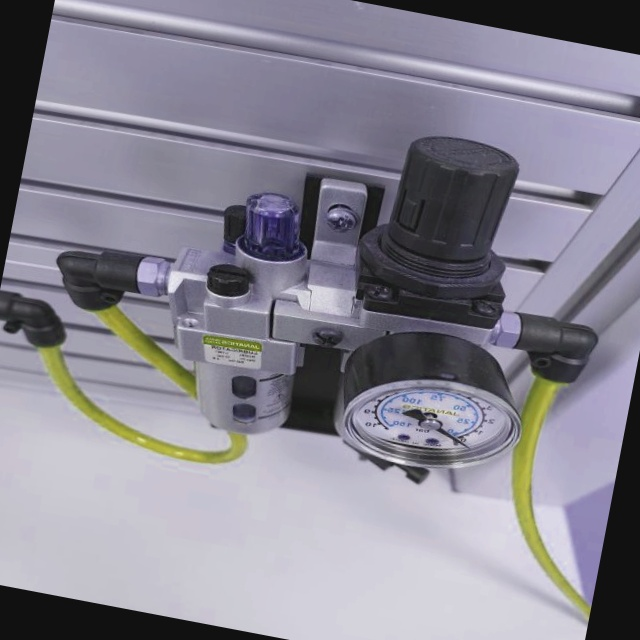FRL unit: (103, 75, 637, 538)
